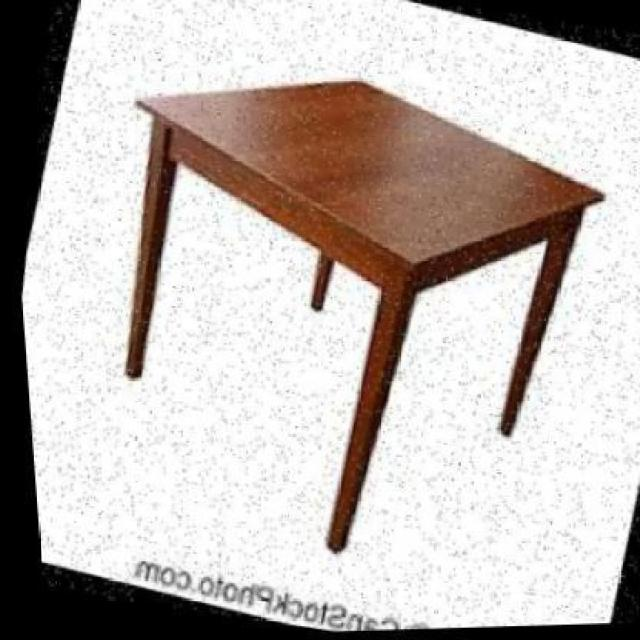tables: (123, 75, 605, 552)
